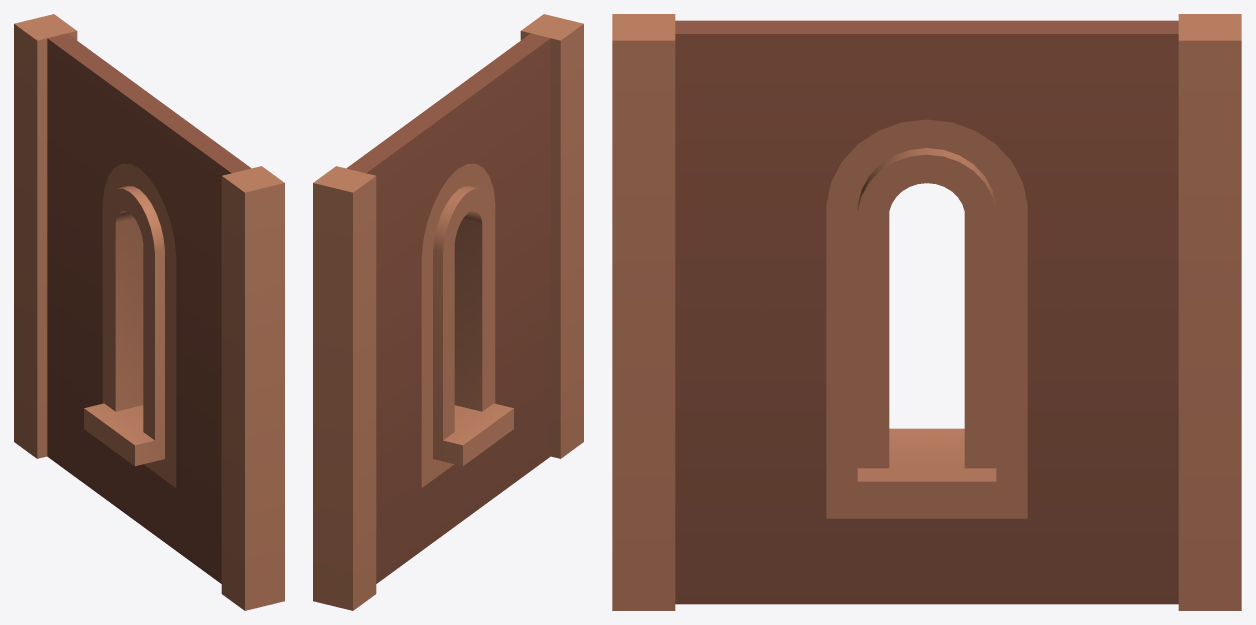
The model's file is wall_wood_window_round.glb.
3 renders of one model, left to right at view 1: azimuth 30°, elevation 25°; view 2: azimuth 150°, elevation 25°; view 3: azimuth 270°, elevation 25°, orthographic. The views are drawn at different scales.
Parts seen in each view (by area): view 1: wall-wood-window-round; view 2: wall-wood-window-round; view 3: wall-wood-window-round.
Boxes of the visible parts, x1,y1,x2,y2 form: wall-wood-window-round: [14, 14, 284, 610]; wall-wood-window-round: [313, 14, 583, 610]; wall-wood-window-round: [612, 14, 1241, 610].
Size of the model in its own units: 0.2 by 1 by 1.
1 material, 1 textured.
